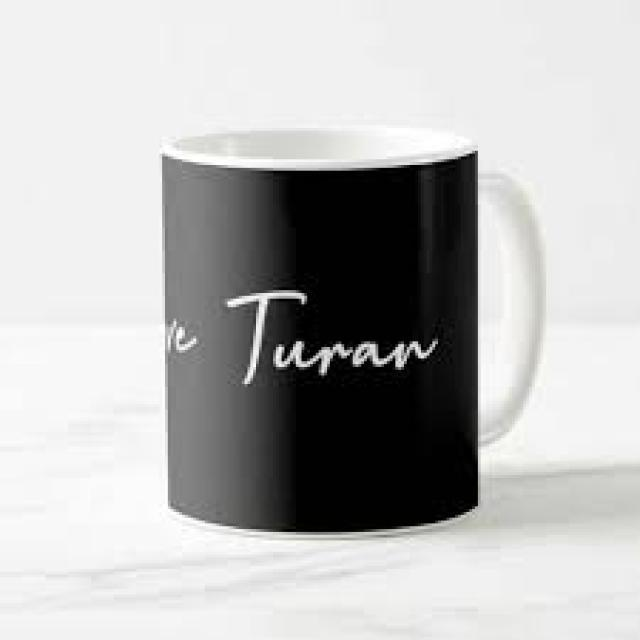taza: (160, 124, 547, 540)
